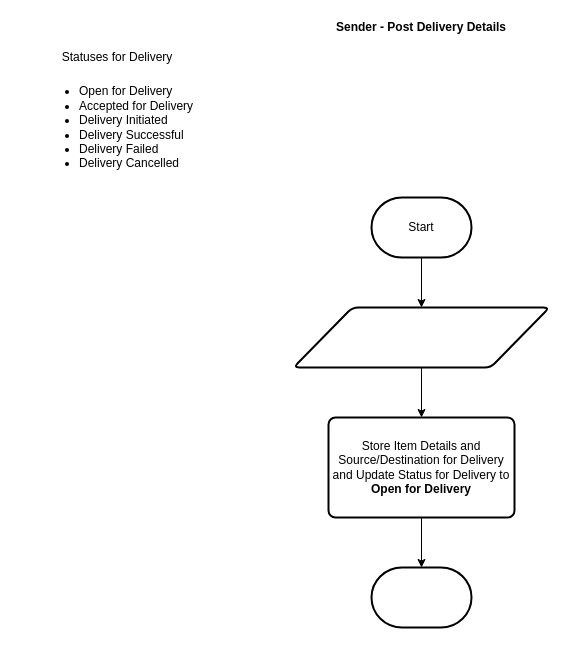
Some shapes in this 567 by 645 pixel diagram are drawn without their labels. Here are the shapes that lost their labels. From the top down, the box of each, then its label:
(292, 306, 550, 368): Take input - Item Details and Source/Destination for Delivery
(370, 566, 472, 628): End
